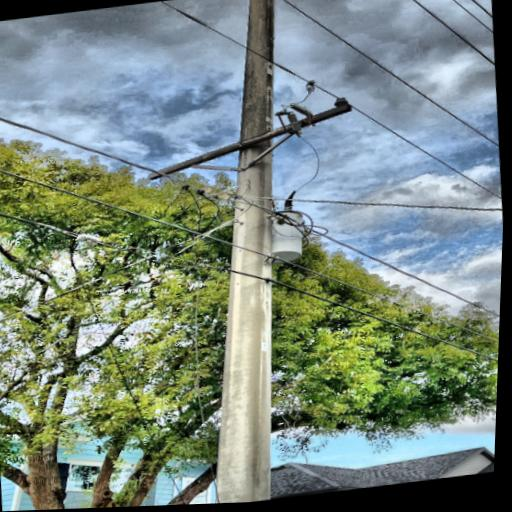pole: (142, 0, 345, 506)
